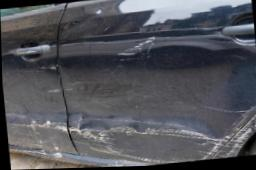Door: (54, 0, 256, 169), (0, 3, 69, 170)
